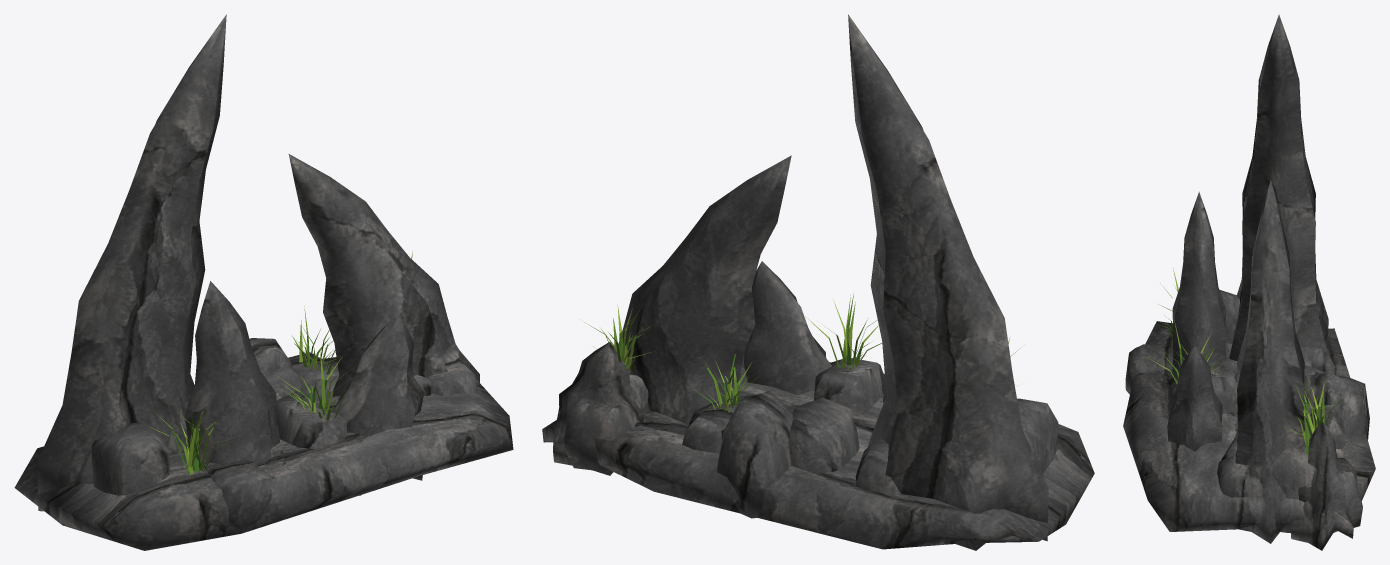
File: dragon-rock.glb
3 renders of one model, left to right at view 1: azimuth 30°, elevation 25°; view 2: azimuth 150°, elevation 25°; view 3: azimuth 270°, elevation 25°, orthographic. The views are drawn at different scales.
Parts seen in each view (by area): view 1: DragonRock, Crevice plants combined; view 2: DragonRock, Crevice plants combined; view 3: DragonRock, Crevice plants combined.
Boxes of the visible parts, x1,y1,x2,y2 form: DragonRock: (14,14,513,550); Crevice plants combined: (144,251,412,474); DragonRock: (542,14,1094,550); Crevice plants combined: (584,293,1022,413); DragonRock: (1123,14,1375,550); Crevice plants combined: (1147,268,1346,454).
Size of the model in its own units: 0.2406 by 0.225 by 0.1234.
Materials: 4 (1 with a texture image).
